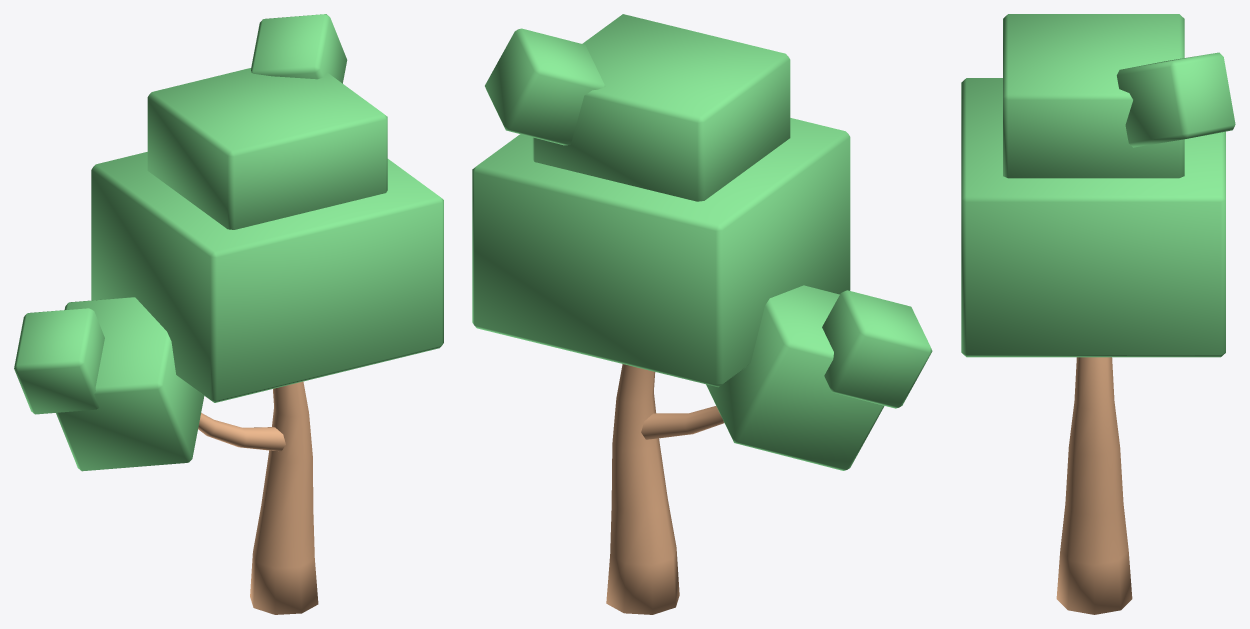
The model's file is Pohon_10.fbx.
3 renders of one model, left to right at view 1: azimuth 30°, elevation 25°; view 2: azimuth 150°, elevation 25°; view 3: azimuth 270°, elevation 25°, orthographic. The views are drawn at different scales.
Parts seen in each view (by area): view 1: Circle.001; view 2: Circle.001; view 3: Circle.001.
Part boxes in pixels (x1=…): Circle.001: x1=14, y1=14, x2=443, y2=614; Circle.001: x1=472, y1=14, x2=932, y2=614; Circle.001: x1=961, y1=14, x2=1235, y2=614.
Bounding box in the file's own units: 887 × 1230 × 529.
